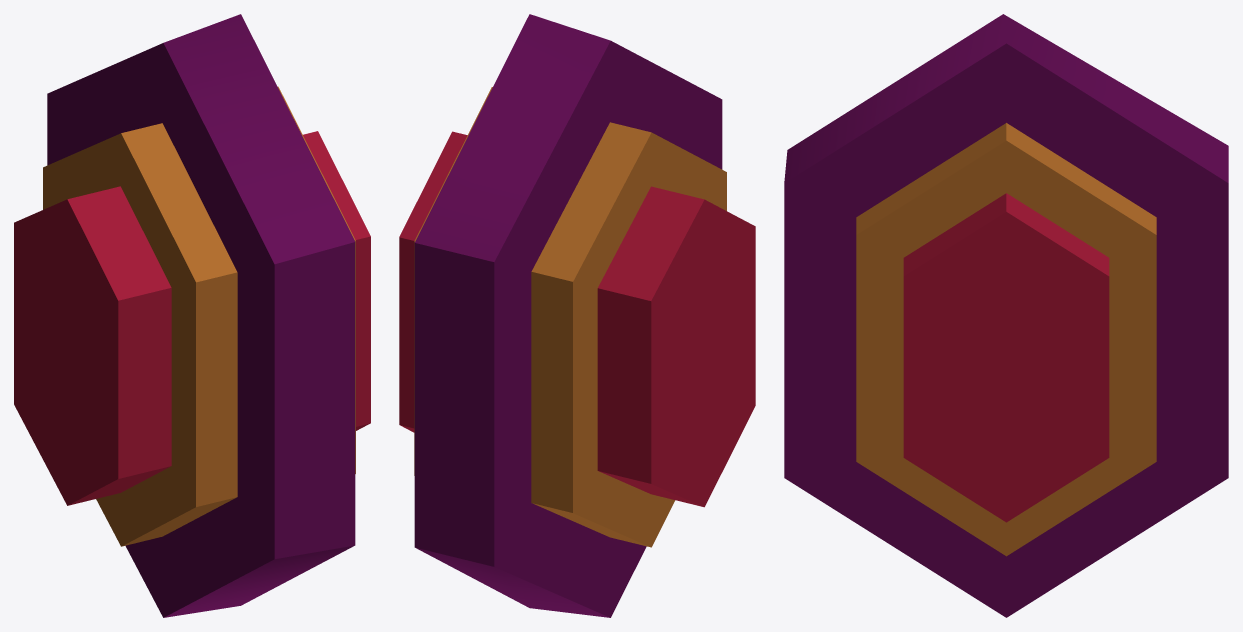
File: coleccionable.FBX
3 views of the same model, side by side, from view 1: azimuth 30°, elevation 25°; view 2: azimuth 150°, elevation 25°; view 3: azimuth 270°, elevation 25° (orthographic). The views are drawn at different scales.
Visible parts, largest first — view 1: Box001; view 2: Box001; view 3: Box001.
Boxes of the visible parts, box(x1,y1,x2,y2) form: Box001: box(14, 14, 370, 617); Box001: box(399, 14, 755, 617); Box001: box(784, 14, 1228, 617).
Bounding box in the file's own units: 31.66 × 71.32 × 50.
